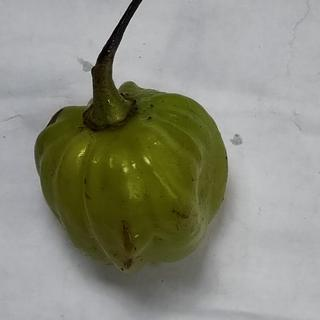Defect: (118, 220, 137, 253), (165, 204, 195, 224), (118, 256, 136, 274)
Fly-bites: (141, 114, 159, 127), (147, 101, 157, 110)
